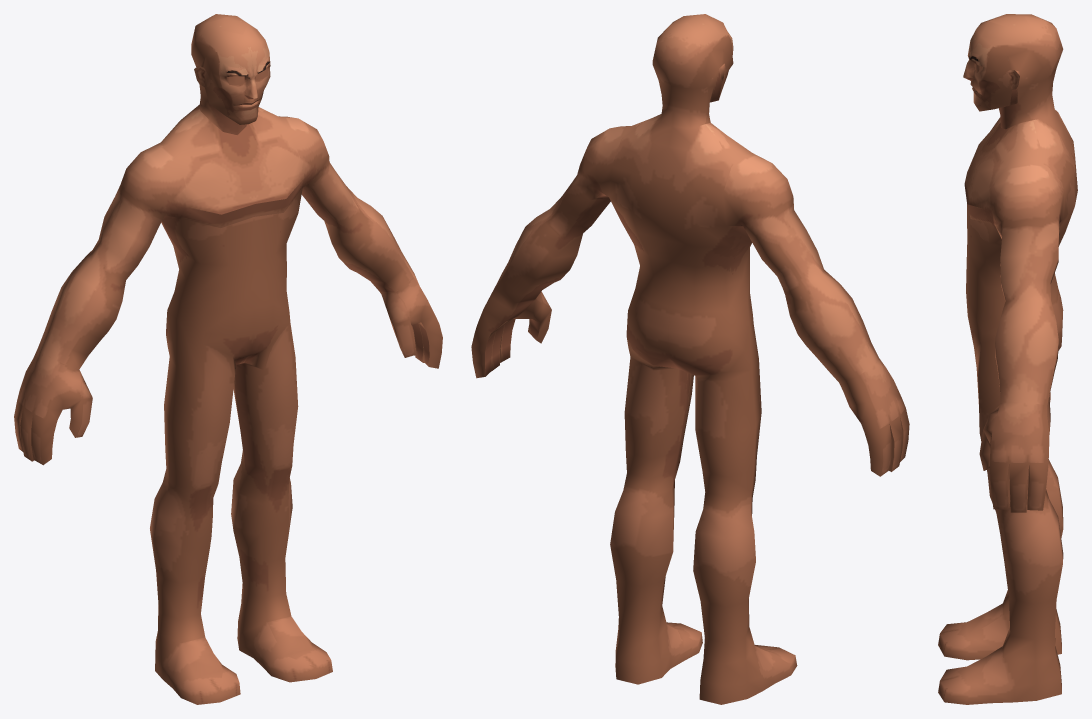
Rendered from hum_m_33a8a0e1.glb.
The picture shows the model from 3 angles, left to right: view 1: azimuth 30°, elevation 25°; view 2: azimuth 150°, elevation 25°; view 3: azimuth 270°, elevation 25°; orthographic projection. The views are drawn at different scales.
Bounding box in the file's own units: 1.7 × 2.56 × 0.4981.
1 material, 1 textured.
